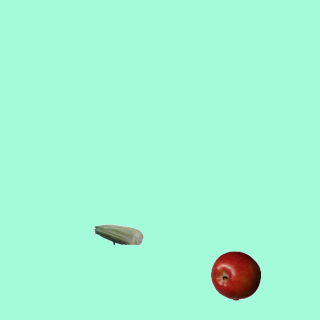Apple Braeburn: (210, 250, 260, 300)
Corn Husk: (93, 209, 143, 259)
